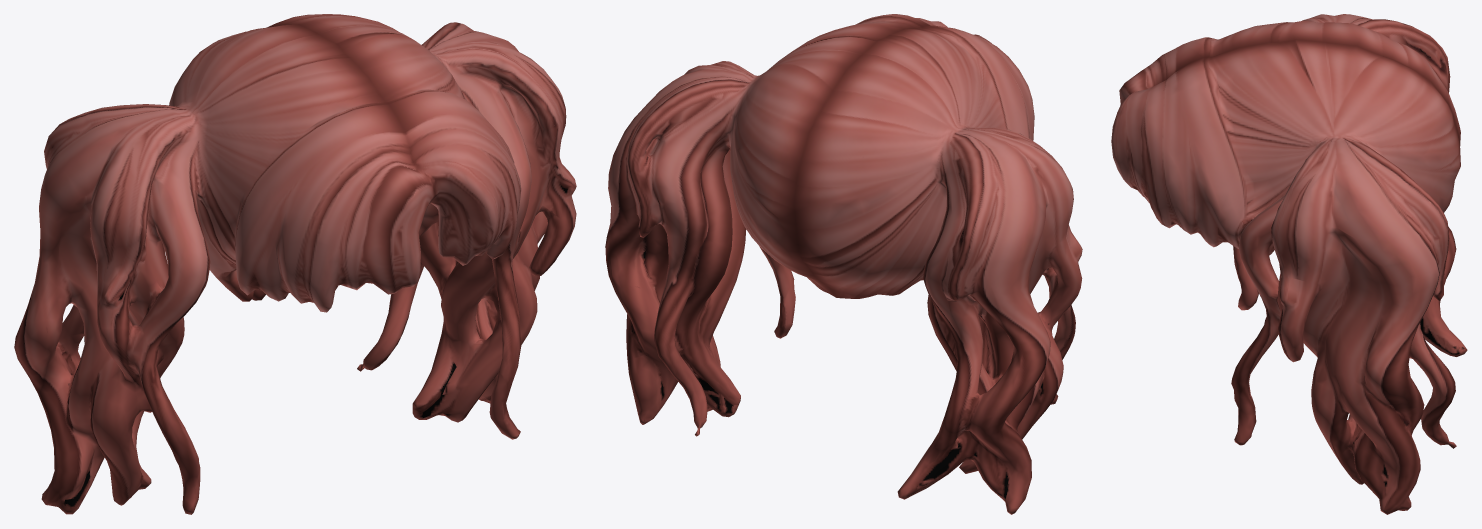
The model's file is animeHair.glb.
3 renders of one model, left to right at view 1: azimuth 30°, elevation 25°; view 2: azimuth 150°, elevation 25°; view 3: azimuth 270°, elevation 25°, orthographic. The views are drawn at different scales.
Visible parts, largest first — view 1: animaHair_toSend; view 2: animaHair_toSend; view 3: animaHair_toSend.
Boxes of the visible parts, <box> form: animaHair_toSend: <box>14,14,576,514</box>; animaHair_toSend: <box>605,14,1082,514</box>; animaHair_toSend: <box>1111,14,1467,514</box>.
Bounding box in the file's own units: 0.6285 × 0.5253 × 0.4392.
1 material, 1 textured.
